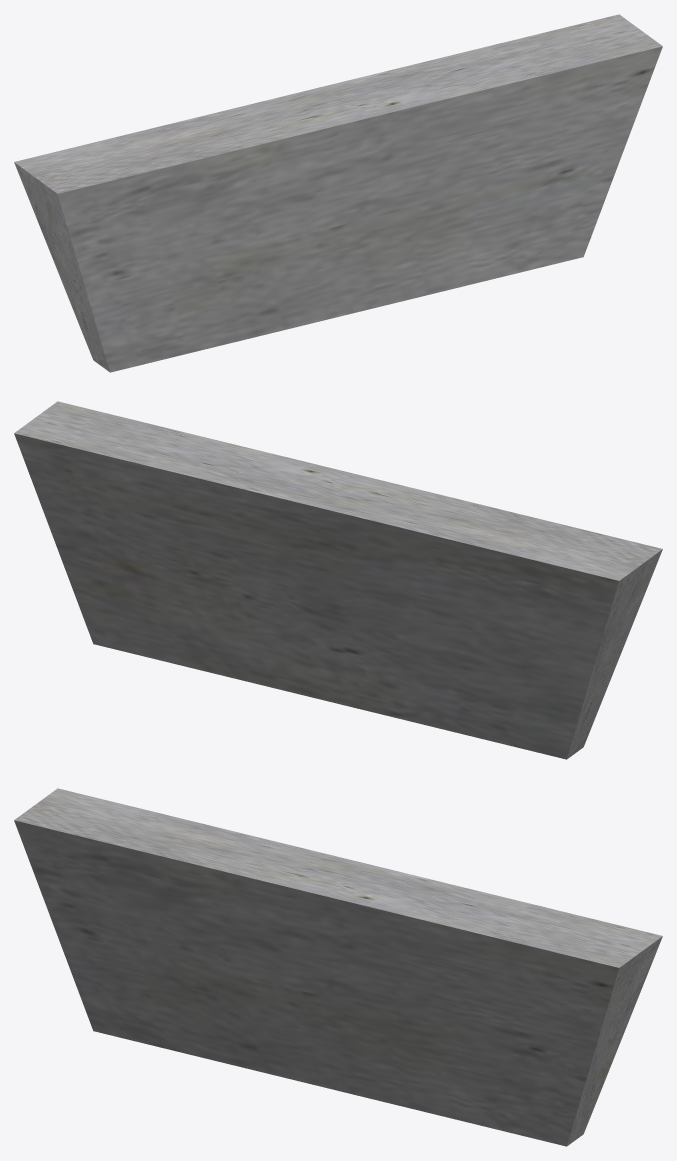
Rendered from duanmian2.glb.
3 renders of one model, top to bottom at view 1: azimuth 30°, elevation 25°; view 2: azimuth 150°, elevation 25°; view 3: azimuth 330°, elevation 25°, orthographic.
Visible parts, largest first — view 1: Cube; view 2: Cube; view 3: Cube.
Part boxes in pixels (bbox=[...]): Cube: bbox=[14, 14, 662, 372]; Cube: bbox=[14, 401, 662, 759]; Cube: bbox=[14, 788, 662, 1146].
Size of the model in its own units: 6.19 by 2 by 0.7745.
Materials: 1 (1 with a texture image).
